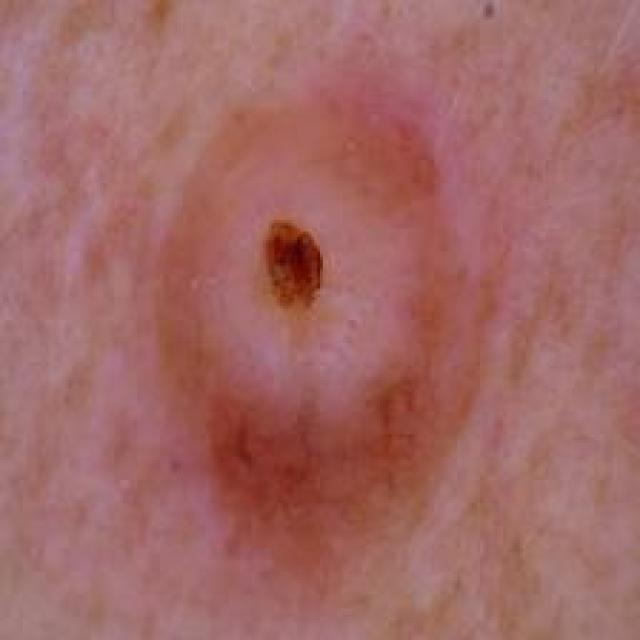Cancer: (232, 194, 349, 369)
